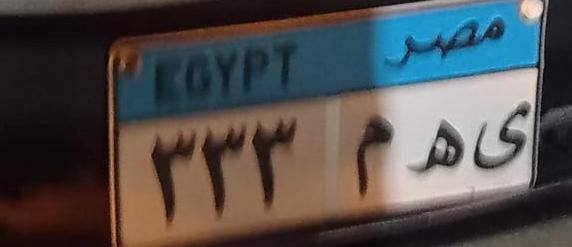3: (249, 110, 296, 228), (149, 123, 199, 231), (197, 121, 249, 221)
م: (344, 102, 396, 215)
ه: (408, 105, 471, 173)
ي: (468, 100, 534, 182)
